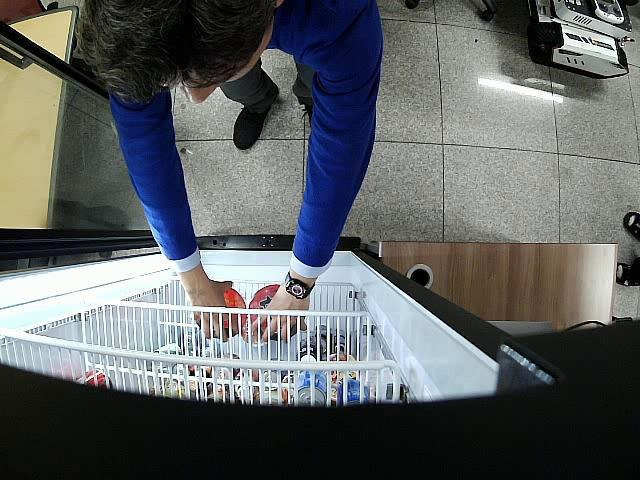00_hand: (186, 270, 234, 341), (251, 296, 308, 343)
01_shinRamen_L: (213, 289, 248, 340), (250, 284, 280, 341)
